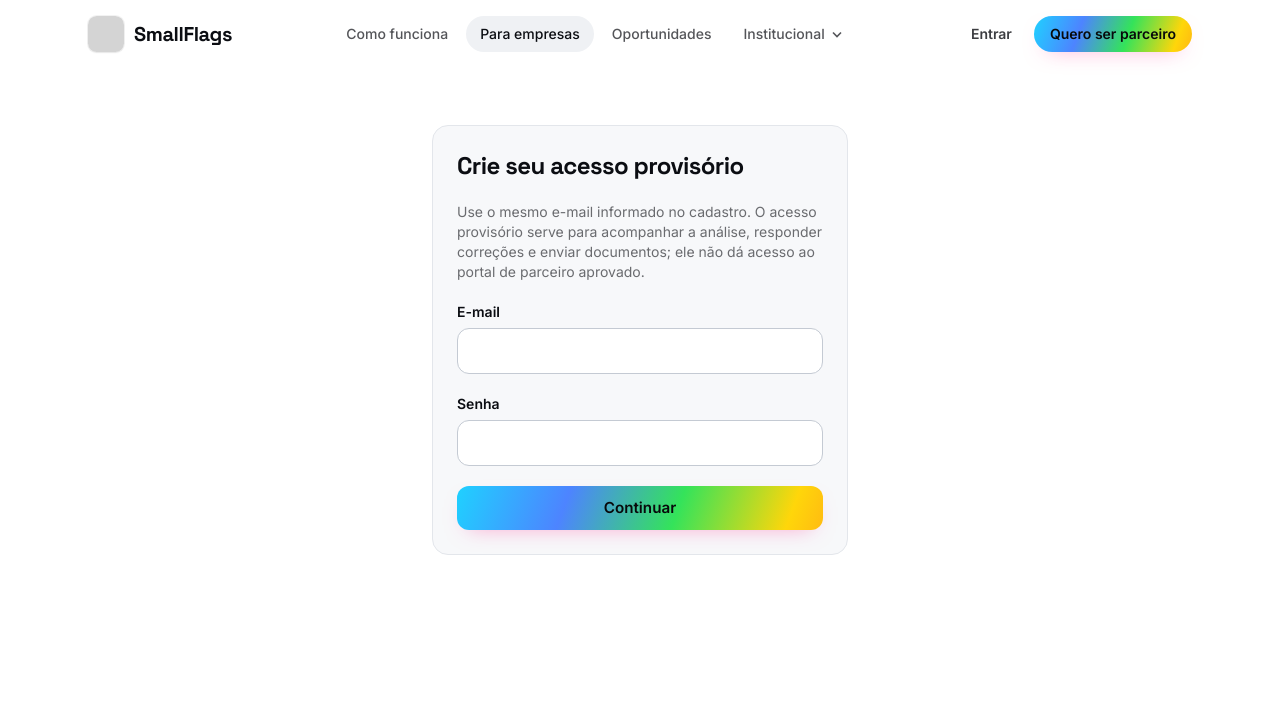
Scenario: C — claim responde provisional_terms_required › recarrega termos, limpa o aceite e nao repete o claim
This screenshot has width=1280, height=720.
Type "contato@teste.com.br" into the field labelled "E-mail" at coordinates (640, 351), box x1=457 y1=328 x2=823 y2=374
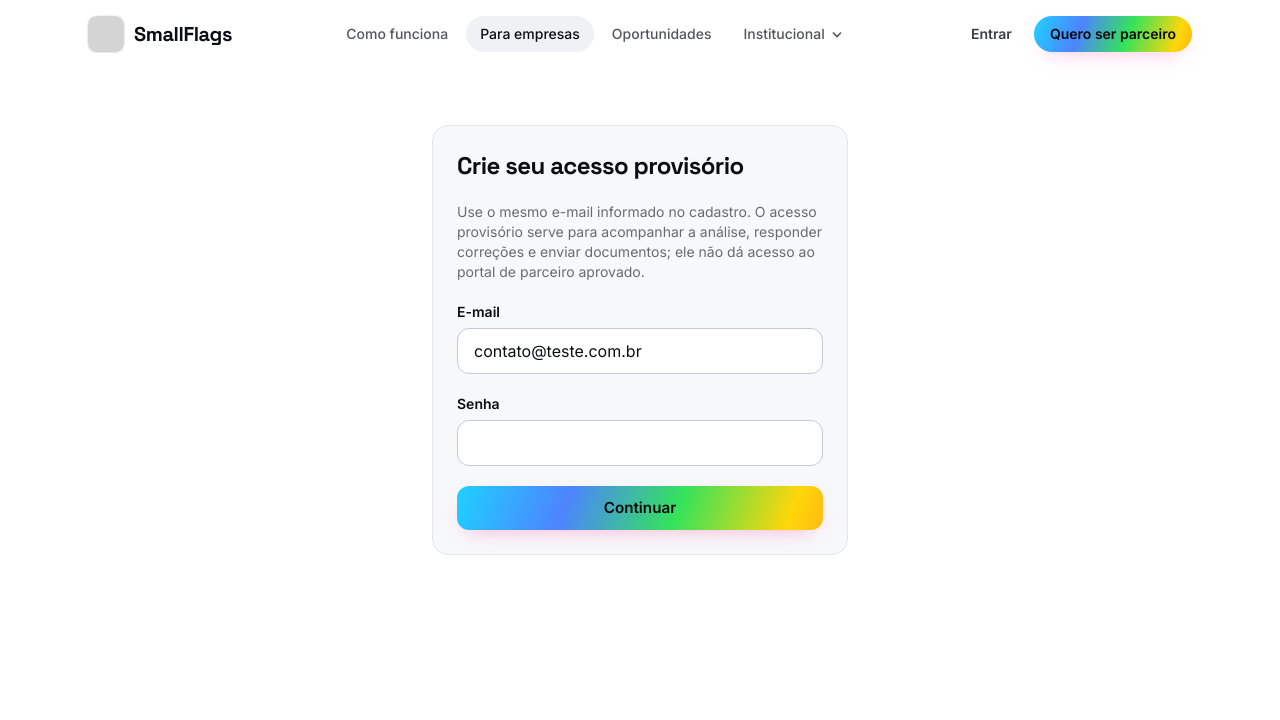
Type "senha-forte-1" into the password field labelled "Senha" at coordinates (640, 443), box x1=457 y1=420 x2=823 y2=466
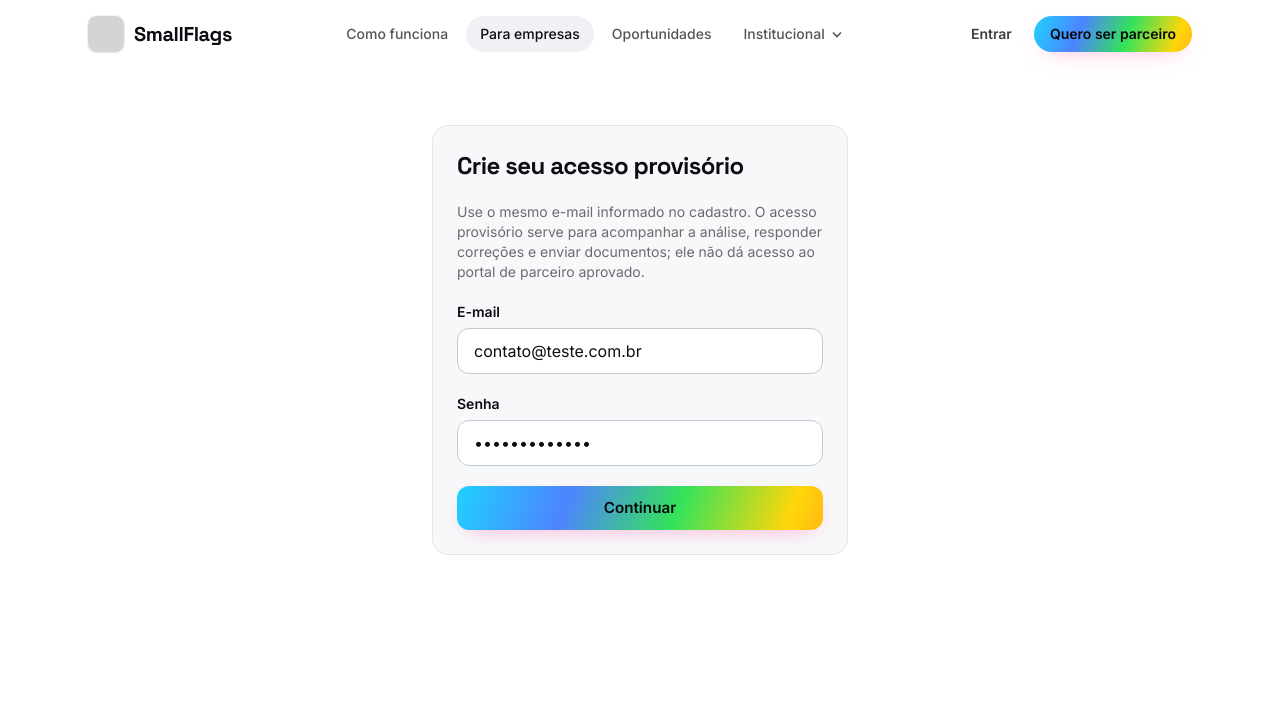
Click the button "Continuar" at coordinates (640, 508), box x1=457 y1=486 x2=823 y2=530
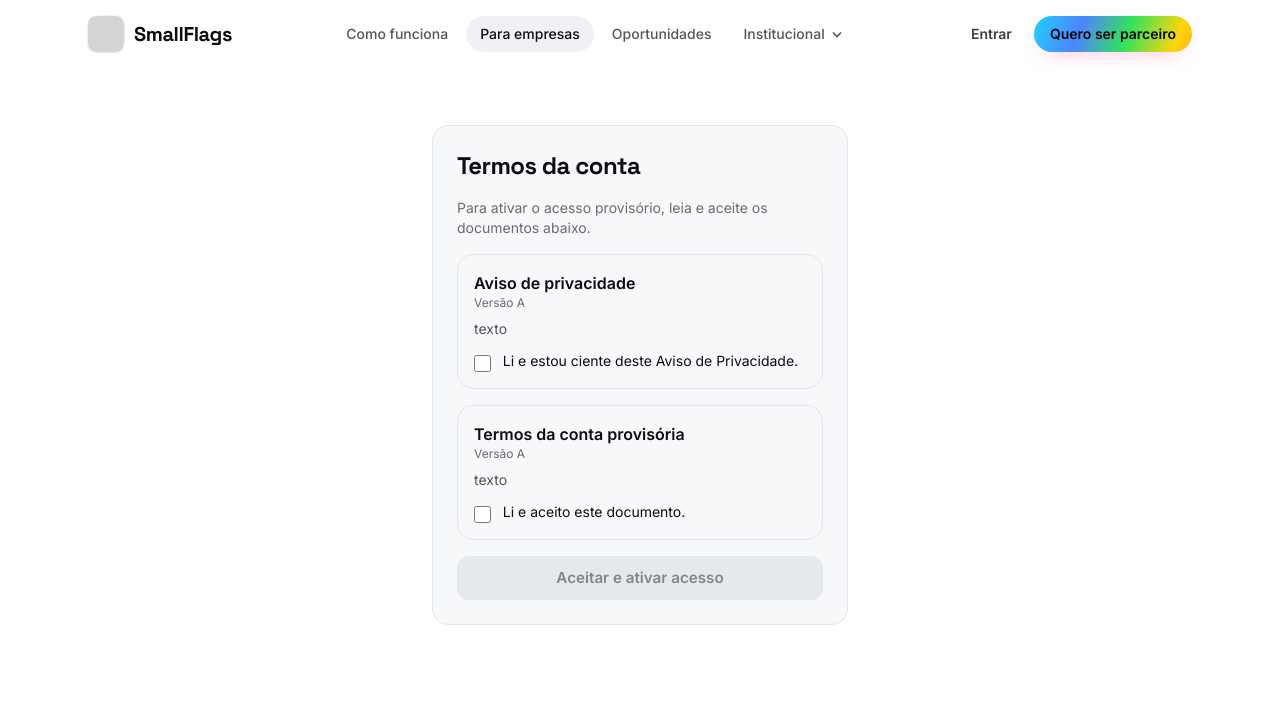
Expected: the checkbox named "ciente: aviso de privacidade" is shown
Click the checkbox named "ciente: aviso de privacidade" at coordinates (482, 363), box x1=474 y1=355 x2=491 y2=372
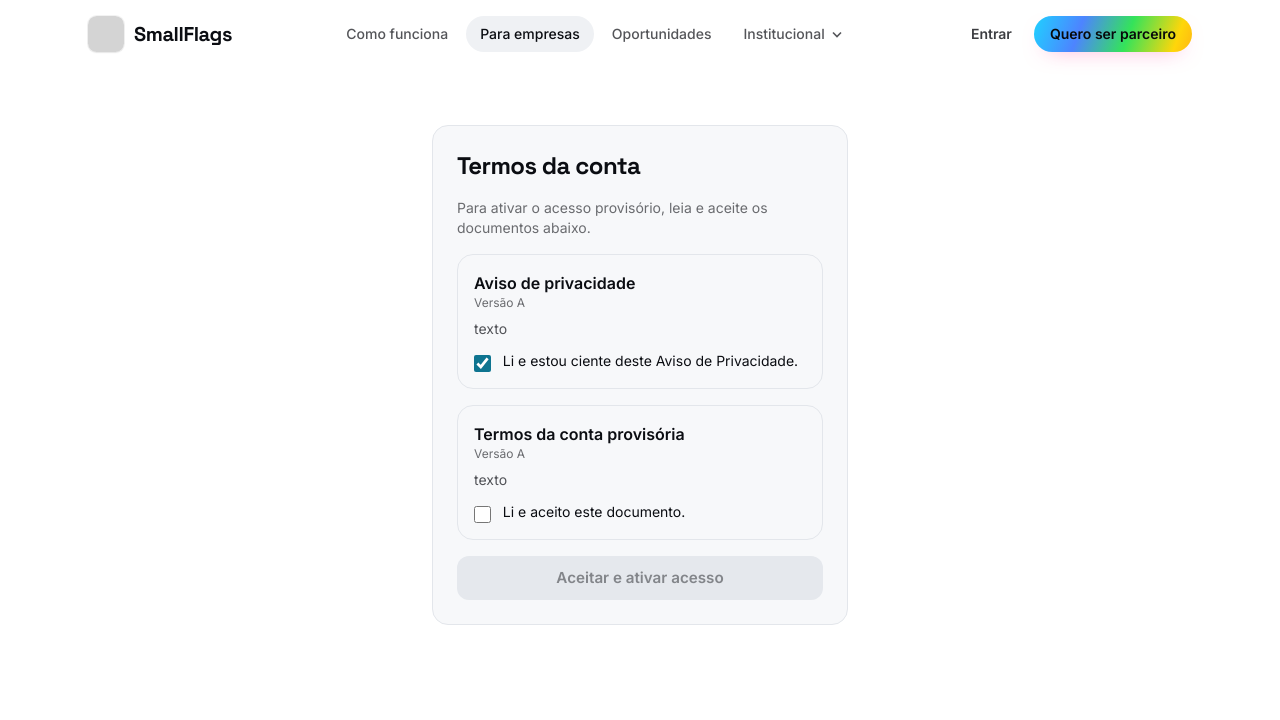
Click the checkbox named "aceito: termos da conta" at coordinates (482, 514), box x1=474 y1=506 x2=491 y2=523
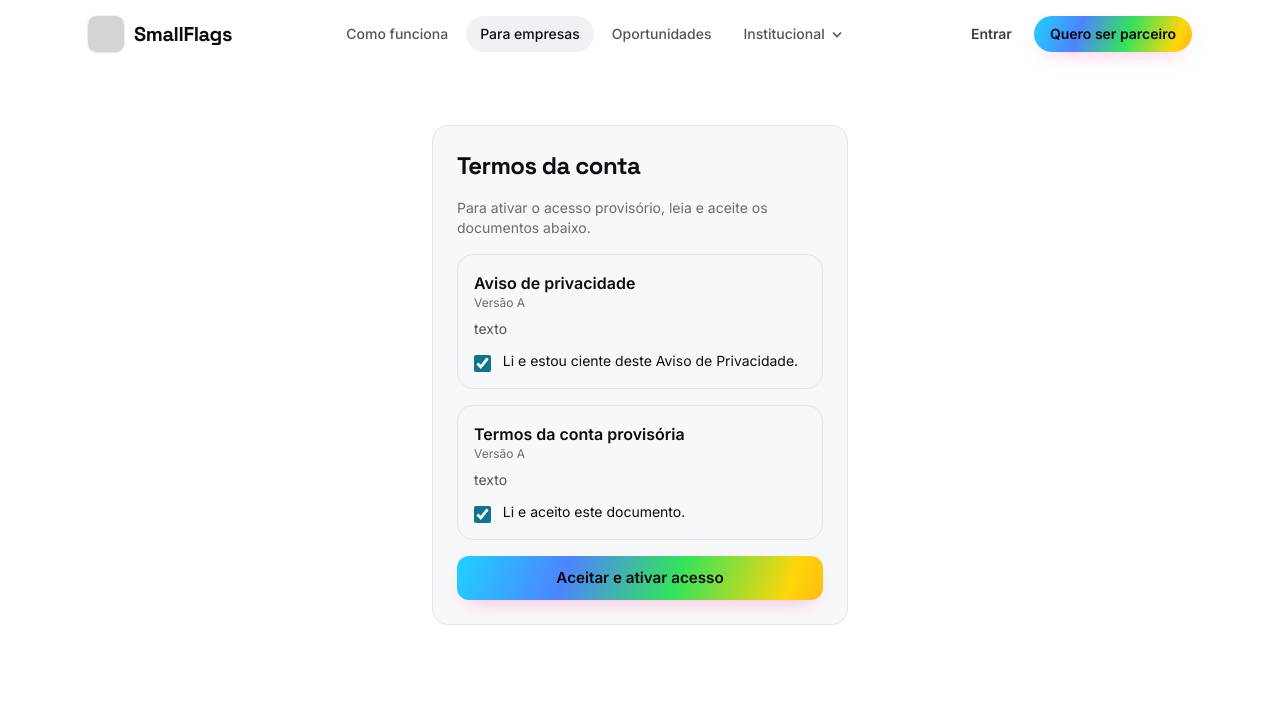
Click the button "Aceitar e ativar acesso" at coordinates (640, 578), box x1=457 y1=556 x2=823 y2=600
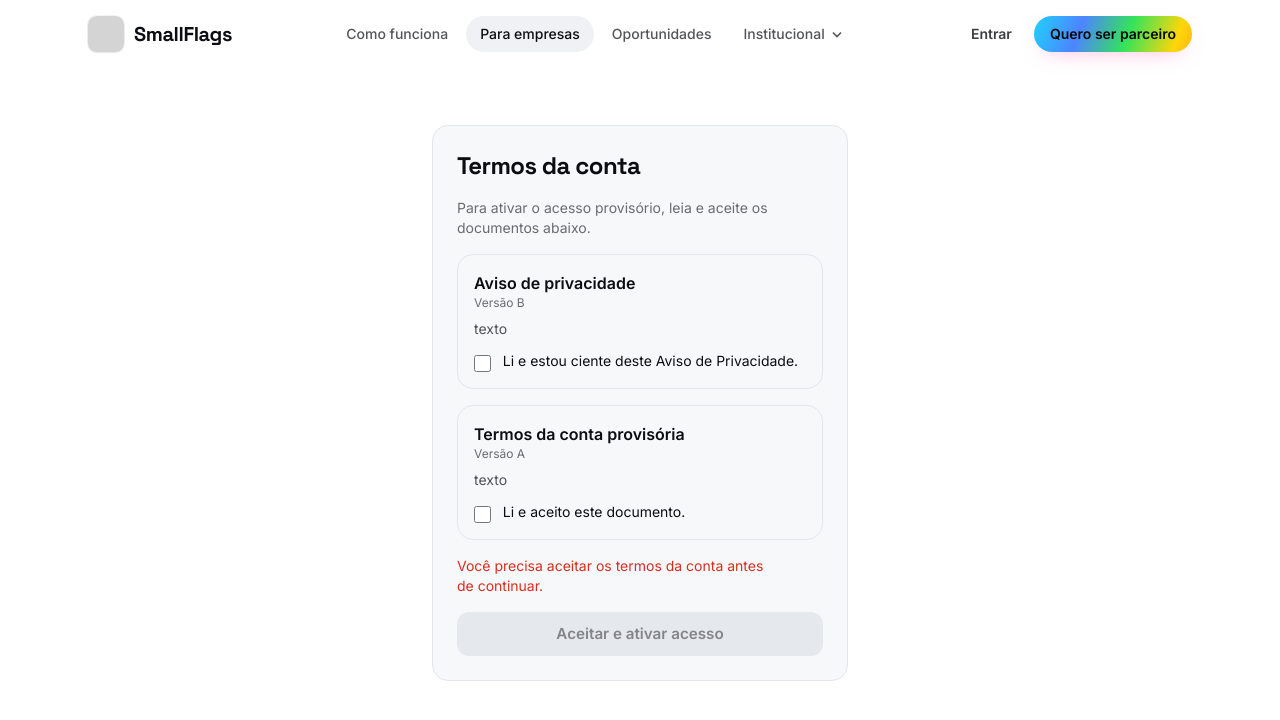
Expected: the text "Você precisa aceitar os termos da conta antes de continuar." is shown, x1=457 y1=557 x2=763 y2=594
Expected: the text "Versão B" is shown, x1=474 y1=295 x2=525 y2=310
Expected: the checkbox labelled "Li e estou ciente deste Aviso de Privacidade." is not checked, x1=474 y1=355 x2=491 y2=372
